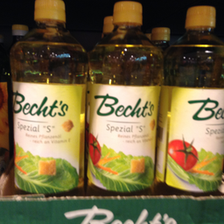oil: (11, 1, 89, 195), (90, 2, 165, 196), (157, 4, 224, 197)
